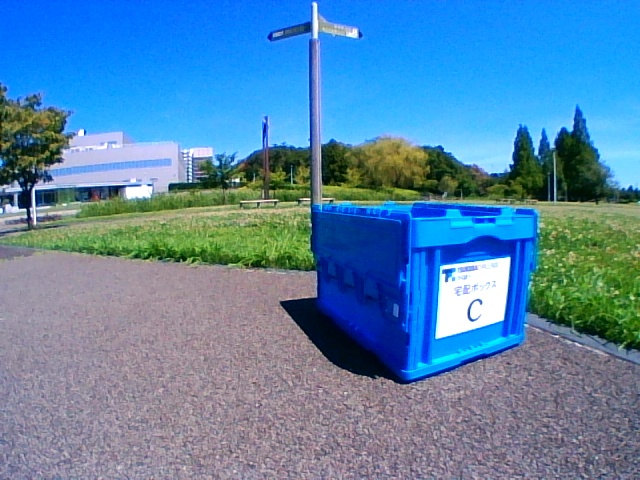blue_box: (313, 204, 523, 342)
tag_c: (448, 267, 494, 325)
